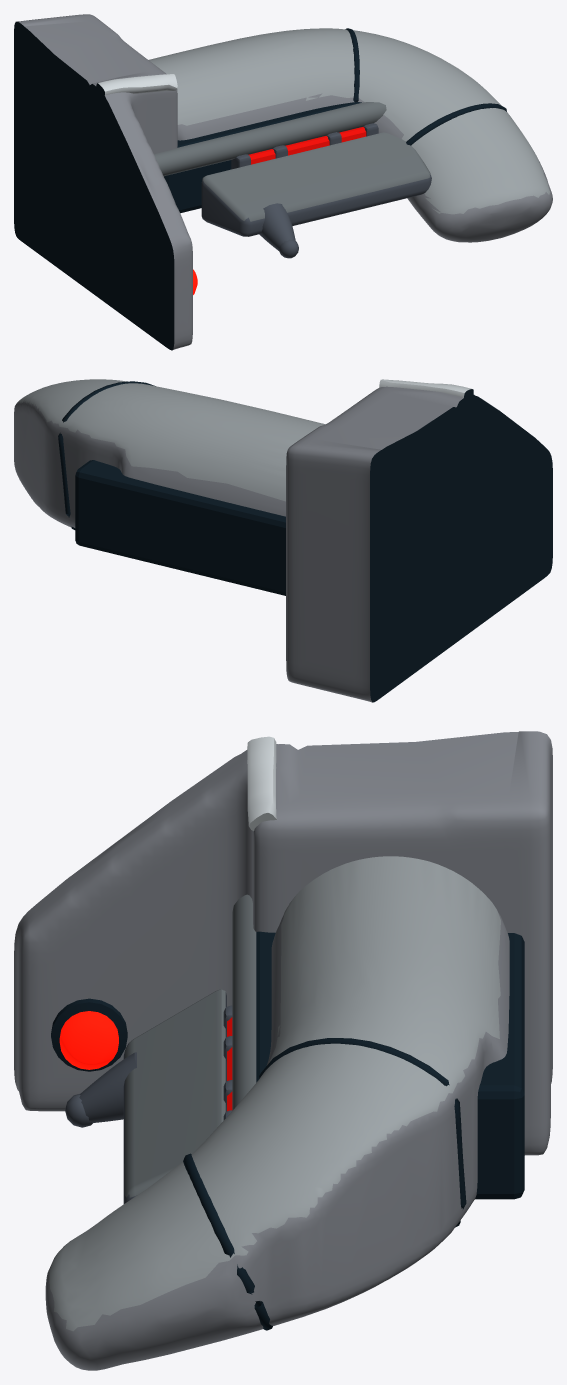
File: claw_hook_l.glb
3 renders of one model, top to bottom at view 1: azimuth 30°, elevation 25°; view 2: azimuth 150°, elevation 25°; view 3: azimuth 270°, elevation 25°, orthographic. The views are drawn at different scales.
Visible parts, largest first — view 1: housing1.001, hump.001, lip.001, ledge.001, core.001, crease1.001, fang.001, vent.001, knuckle1.001, knuckle0.001; view 2: housing1.001, hump.001, core.001, crease1.001, knuckle0.001; view 3: hump.001, housing1.001, lip.001, core.001, ledge.001, lamp1.001, crease1.001, fang.001, knuckle0.001, knuckle1.001.
Boxes of the visible parts, left/top/right/bottom form: housing1.001: left=14, top=14, right=192, bottom=350; hump.001: left=149, top=28, right=552, bottom=242; lip.001: left=201, top=132, right=431, bottom=236; ledge.001: left=154, top=102, right=386, bottom=176; core.001: left=164, top=102, right=361, bottom=213; crease1.001: left=96, top=74, right=177, bottom=98; fang.001: left=259, top=203, right=295, bottom=250; vent.001: left=248, top=127, right=366, bottom=164; knuckle1.001: left=406, top=103, right=506, bottom=145; knuckle0.001: left=345, top=28, right=359, bottom=102; housing1.001: left=286, top=386, right=552, bottom=702; hump.001: left=14, top=379, right=325, bottom=527; core.001: left=75, top=460, right=285, bottom=595; crease1.001: left=379, top=379, right=473, bottom=403; knuckle0.001: left=58, top=381, right=155, bottom=529; hump.001: left=45, top=856, right=509, bottom=1370; housing1.001: left=14, top=731, right=552, bottom=1155; lip.001: left=123, top=989, right=226, bottom=1203; core.001: left=256, top=931, right=524, bottom=1199; ledge.001: left=232, top=894, right=256, bottom=1110; lamp1.001: left=51, top=998, right=127, bottom=1071; crease1.001: left=247, top=736, right=277, bottom=831; fang.001: left=79, top=1052, right=136, bottom=1122; knuckle0.001: left=259, top=1038, right=466, bottom=1227; knuckle1.001: left=183, top=1153, right=272, bottom=1330.
Bounding box in the file's own units: 22.56 × 11.56 × 15.47.
